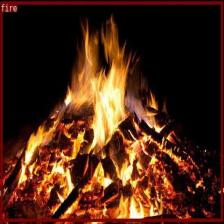fire: (0, 1, 223, 221)
